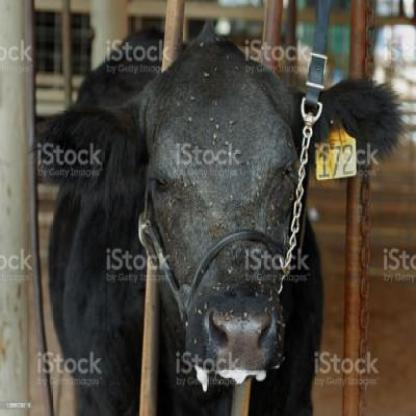mouth: (183, 286, 286, 384)
upper: (229, 325, 257, 348)
